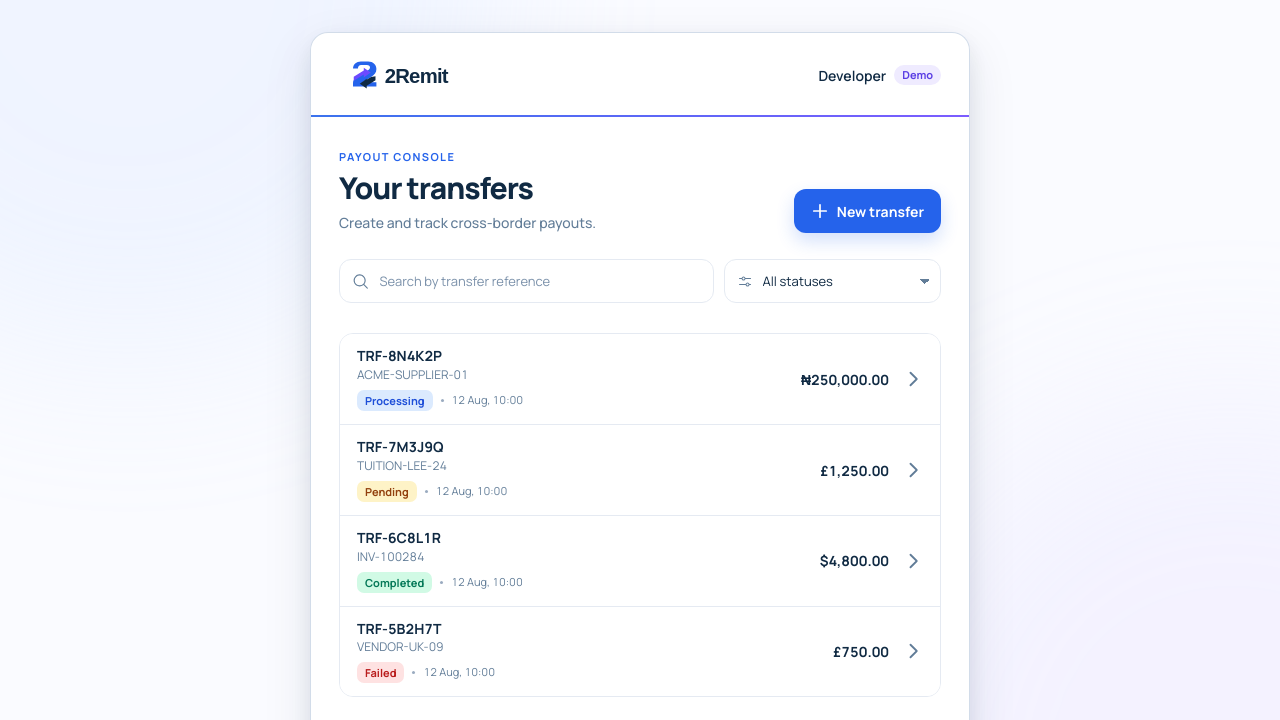
TransfersConsole › filters transfers by status
Check: the text "TRF-8N4K2P" is shown, box 357,346 -> 442,366
Step 1. Select "Failed" in the dropdown named "Filter by transfer status" → [851, 282], box 763,260 -> 940,302
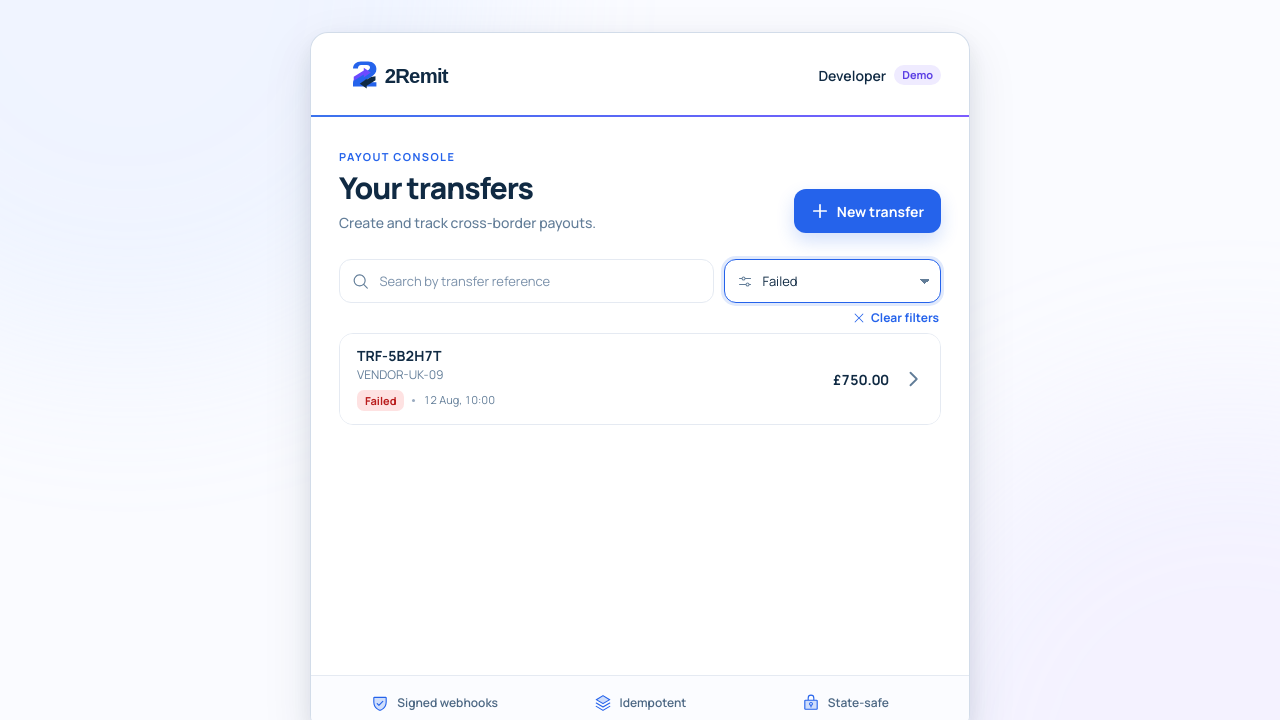
Check: the text "TRF-5B2H7T" is shown, box 357,346 -> 441,366
Check: the link "TRF-7M3J9Q" is gone
